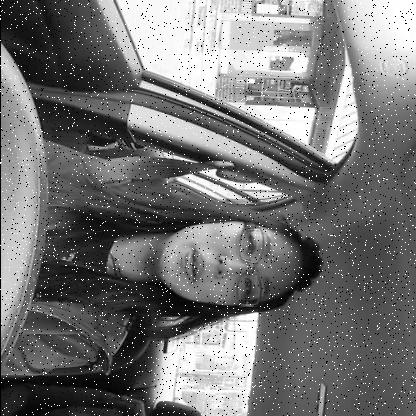seatbelt: (0, 152, 358, 318)
